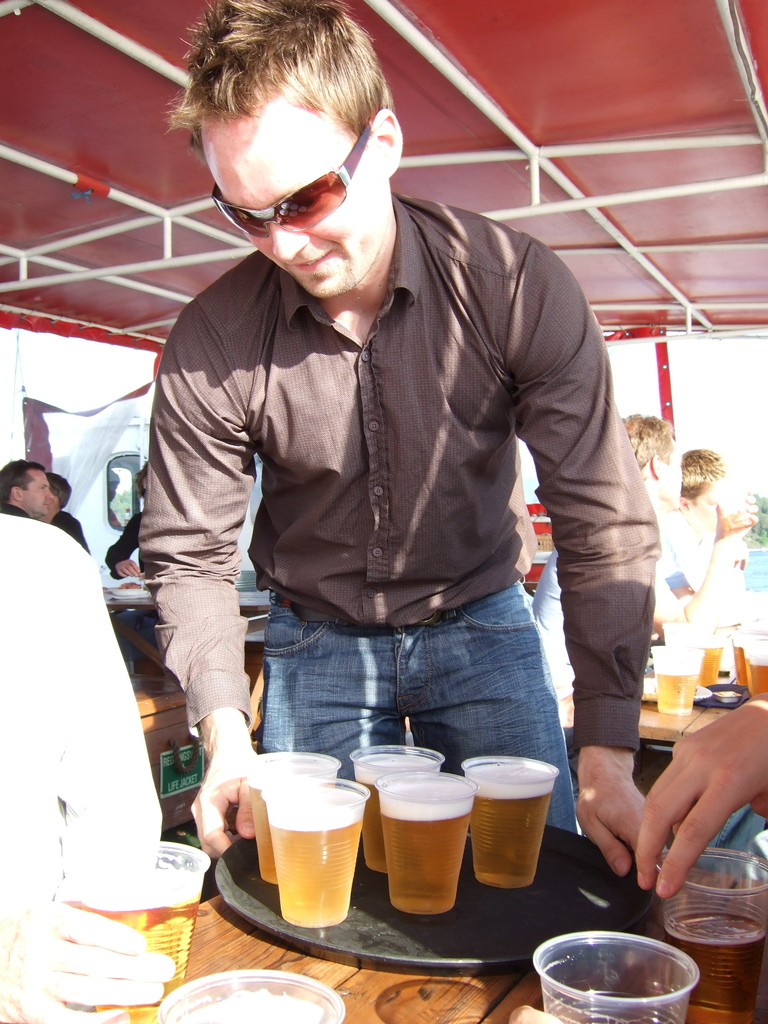Beer: (67, 828, 183, 999), (367, 765, 480, 919), (461, 741, 561, 900), (349, 739, 460, 877), (241, 744, 344, 891), (256, 779, 367, 912)
